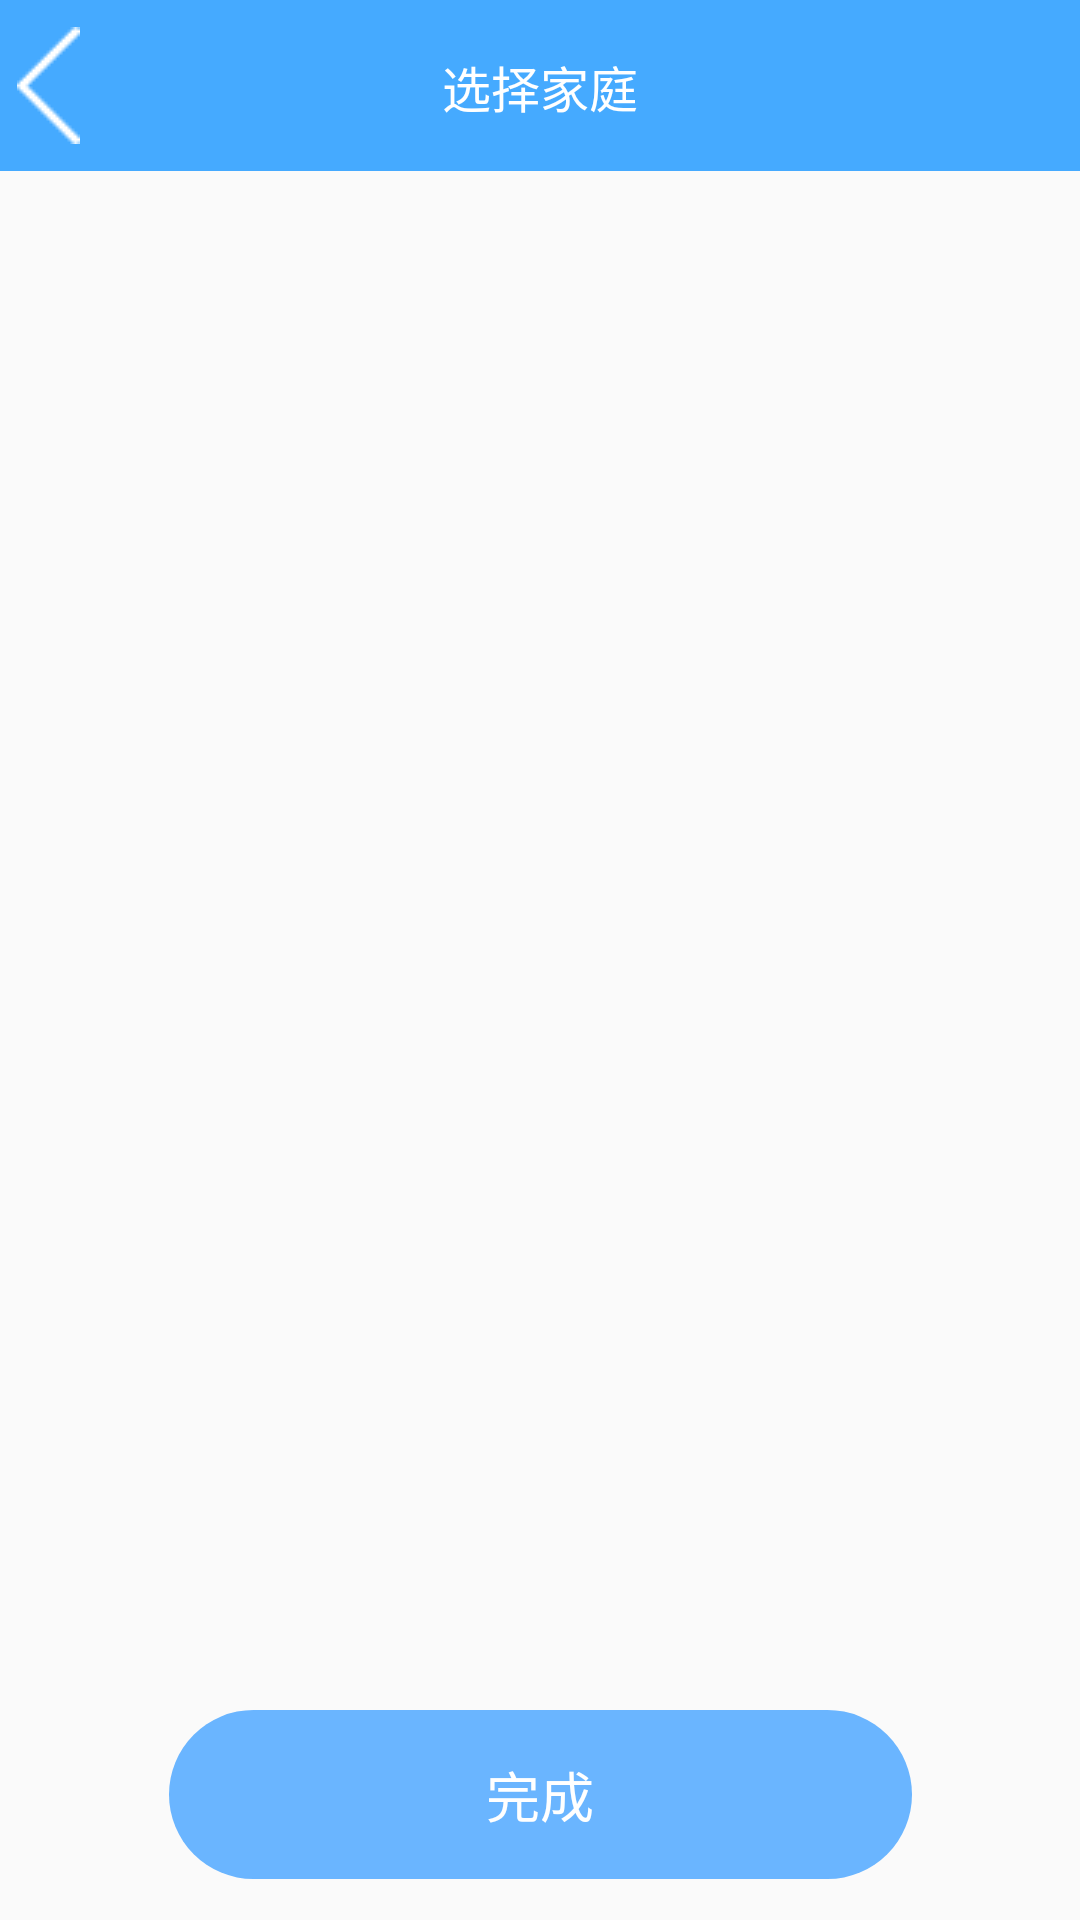

Icons on this 1080×1920 Android screen, each with the point to tap as (x=x, y=y):
back: (x=48, y=85)
